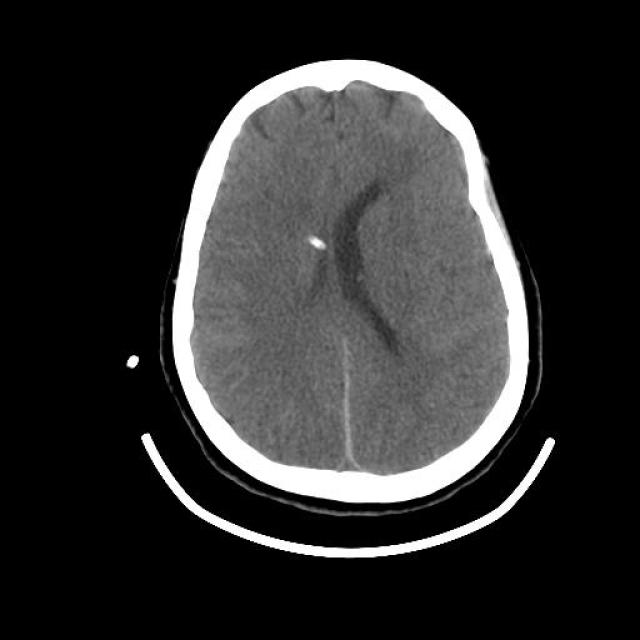Subdural: (322, 329, 367, 510)
